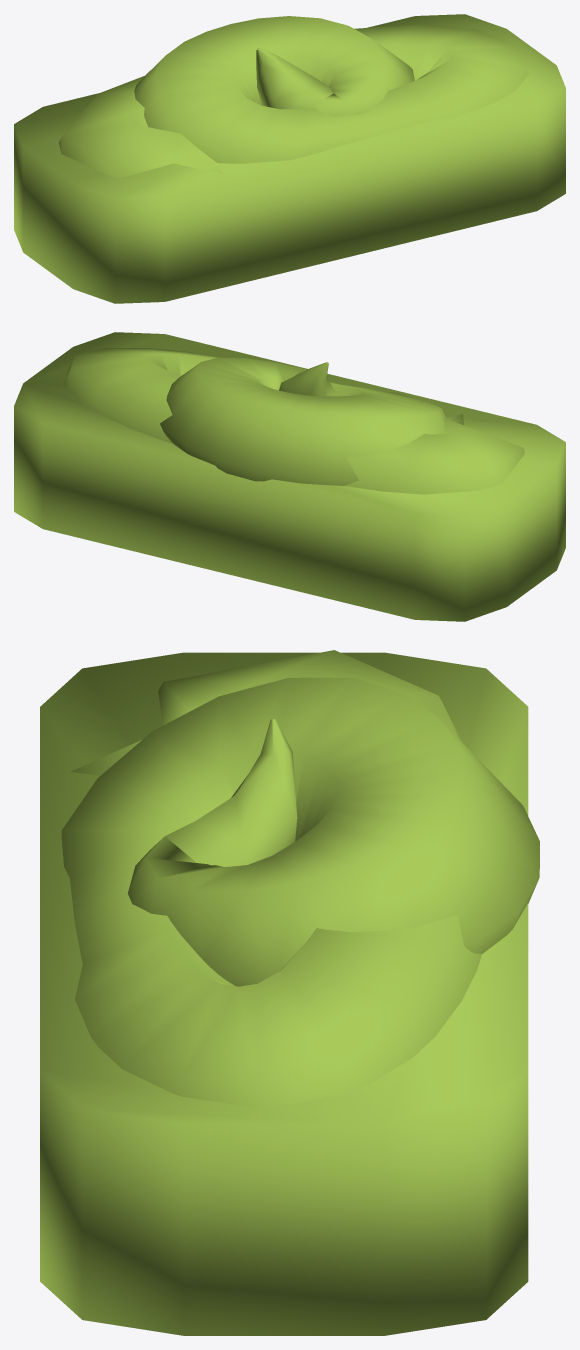
File: Ketchup2.fbx
The picture shows the model from 3 angles, top to bottom: view 1: azimuth 30°, elevation 25°; view 2: azimuth 150°, elevation 25°; view 3: azimuth 270°, elevation 25°; orthographic projection. The views are drawn at different scales.
Parts seen in each view (by area): view 1: Cube.093, NurbsPath.001; view 2: Cube.093, NurbsPath.001; view 3: Cube.093, NurbsPath.001.
Part boxes in pixels (box(x1,y1,x2,y2)): Cube.093: box(14, 14, 565, 303); NurbsPath.001: box(58, 16, 528, 178); Cube.093: box(14, 332, 565, 621); NurbsPath.001: box(64, 348, 524, 494); Cube.093: box(40, 652, 528, 1335); NurbsPath.001: box(61, 650, 539, 1107).
Bounding box in the file's own units: 34.18 × 11.75 × 15.3.
